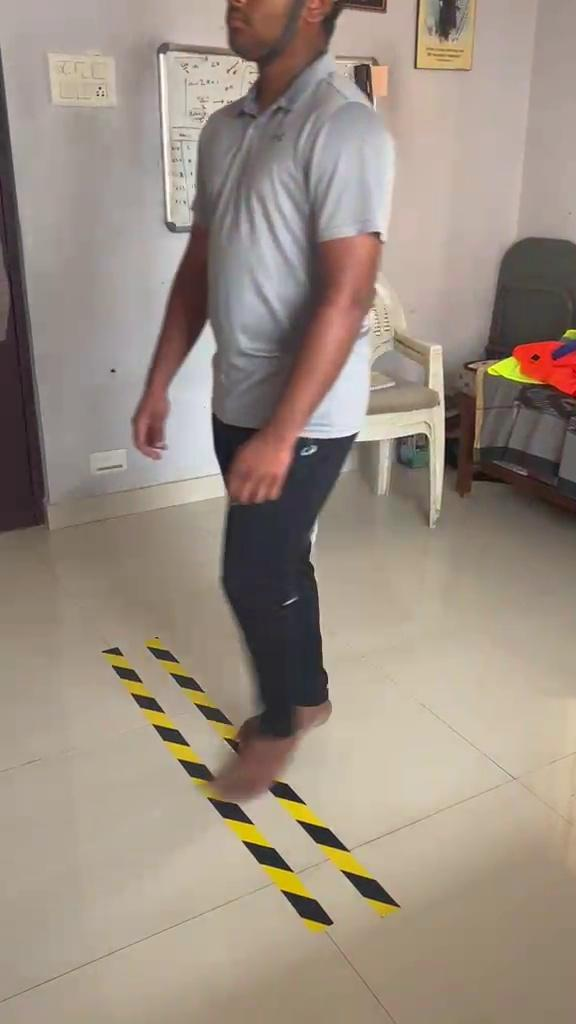BorderLine: (103, 638, 403, 934)
No_Helmet: (225, 0, 357, 62)
No_Vest: (190, 60, 391, 444)
Person: (130, 0, 396, 804)
